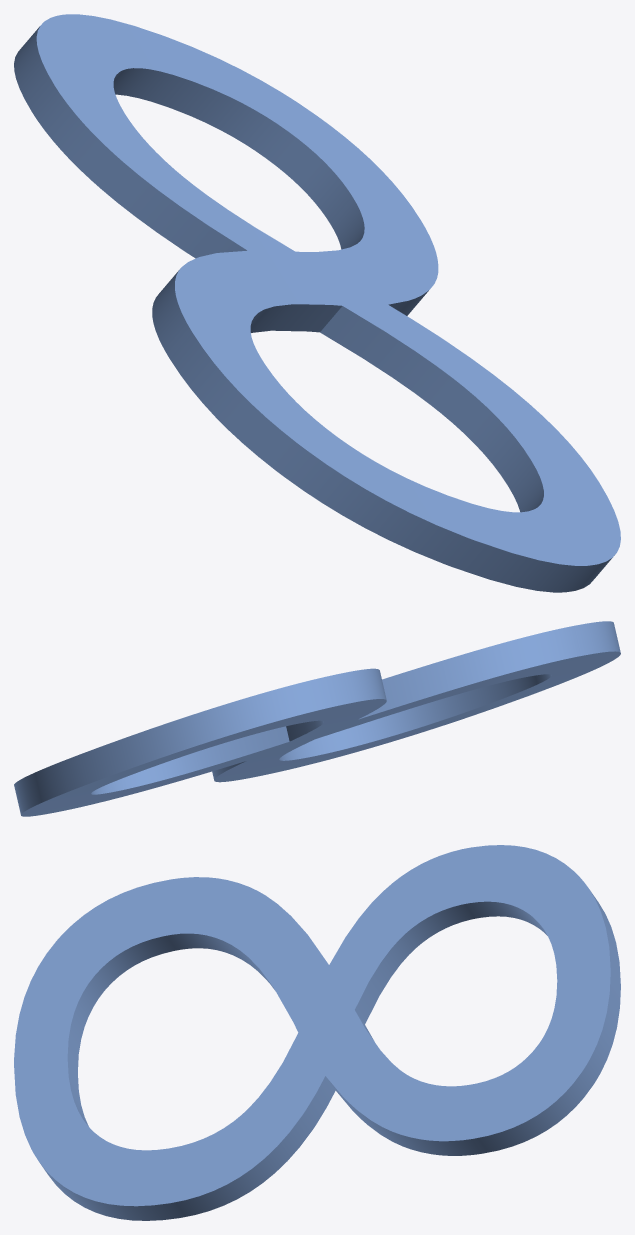
Rendered from New_Number_8.gltf.
The picture shows the model from 3 angles, top to bottom: view 1: azimuth 30°, elevation 25°; view 2: azimuth 150°, elevation 25°; view 3: azimuth 270°, elevation 25°; orthographic projection. The views are drawn at different scales.
Visible parts, largest first — view 1: Part 620; view 2: Part 620; view 3: Part 620.
Part boxes in pixels (left/top/right/bottom): Part 620: left=14, top=14, right=620, bottom=592; Part 620: left=14, top=621, right=620, bottom=816; Part 620: left=14, top=845, right=620, bottom=1220.
Bounding box in the file's own units: 0.0035 × 0.00276 × 0.00557.
